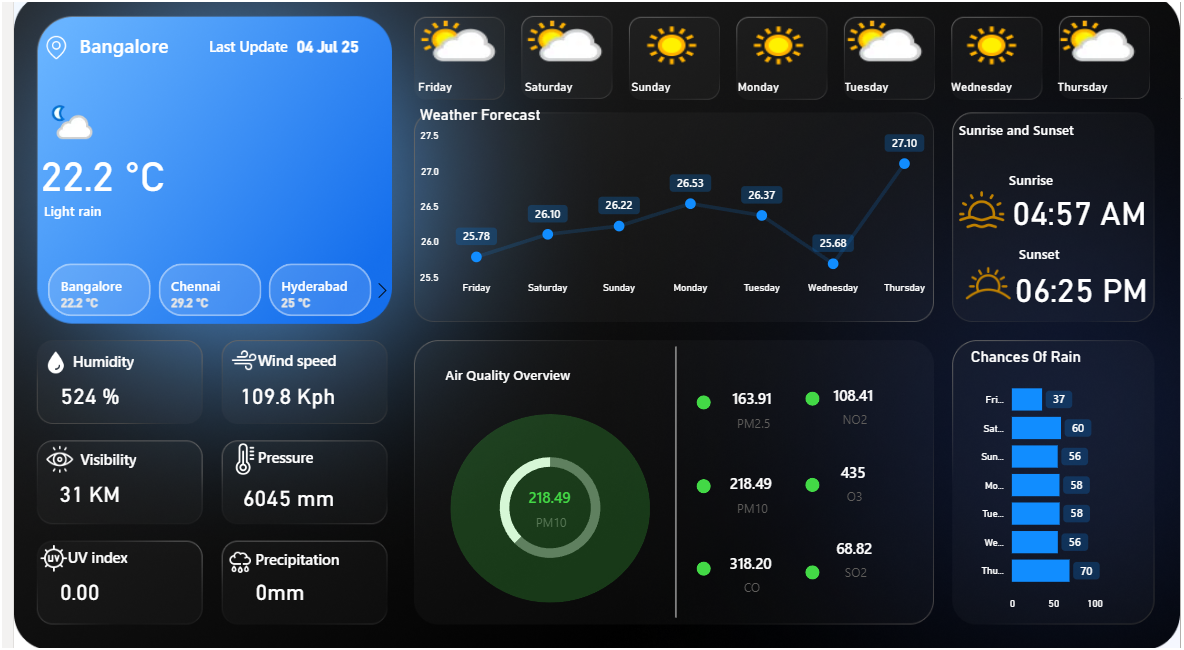

The dashboard page shown, as its layout file describes it:
{"tool":"powerbi","page":{"name":"Page 1","canvas":[1280,720],"ordinal":0},"visuals":[{"type":"advancedSlicerVisual","fields":{"Values":["current.location.name"]},"box":[12.3,290.9,407.5,68.6],"z":0},{"type":"shape","box":[18.2,169.5,158.9,60.5],"z":1000},{"type":"cardVisual","fields":{"Data":["Min(current.current.condition.icon)"]},"box":[0,101.4,116.5,87.8],"z":2000},{"type":"shape","box":[32.9,219.6,234.6,35.7],"z":3000},{"type":"shape","box":[64.5,41.2,112.5,30.2],"z":4000},{"type":"shape","box":[288.2,26.1,112.5,61.7],"z":5000},{"type":"shape","box":[72.7,495.4,100.2,28.8],"z":6000},{"type":"shape","box":[59,605.1,90.6,26.1],"z":7000},{"type":"shape","box":[264.8,606.5,101.5,26.1],"z":8000},{"type":"shape","box":[267.6,492.6,76.8,31.6],"z":9000},{"type":"shape","box":[267.6,387,112.5,30.2],"z":10000},{"type":"shape","box":[1037.4,130.4,138.6,37],"z":11000},{"type":"shape","box":[473.4,404.8,138.6,26.1],"z":12000},{"type":"shape","box":[64.5,388.3,78.2,30.2],"z":13000},{"type":"card","fields":{"Values":["_measure.windSpeed"]},"box":[233.1,417.7,134.7,46.9],"z":14000},{"type":"card","fields":{"Values":["_measure.pressure"]},"box":[245.2,529.7,112,46.9],"z":15000},{"type":"card","fields":{"Values":["_measure.prep"]},"box":[255.8,632.6,74.2,46.9],"z":16000},{"type":"card","fields":{"Values":["Sum(current.current.uv)"]},"box":[16.6,632.6,112,46.9],"z":17000},{"type":"card","fields":{"Values":["_measure.humudity"]},"box":[27.2,417.7,112,46.9],"z":18000},{"type":"card","fields":{"Values":["_measure.visivility"]},"box":[27.2,525.1,112,46.9],"z":19000},{"type":"lineChart","title":" Weather Forecast","fields":{"Y":["Avg(forcast_day.forecast.forecastday.day.avgtemp_c)"],"Category":["forcast_day.Day"]},"box":[440.5,122.1,573.6,215.4],"z":20000},{"type":"advancedSlicerVisual","fields":{"Values":["forcast_day.Day"]},"box":[433.6,12.3,817.8,118],"z":21000},{"type":"card","fields":{"Values":["Min(forcast_day.Sunrise)"]},"box":[1070.3,204.5,199,65.9],"z":22000},{"type":"card","fields":{"Values":["Min(forcast_day.sunset)"]},"box":[1092.3,284,159.2,75.5],"z":23000},{"type":"clusteredBarChart","title":" Chances Of Rain","fields":{"Category":["forcast_day.Day"],"Y":["Avg(forcast_day.forecast.forecastday.day.daily_chance_of_rain)"]},"box":[1045.2,388.1,193.3,296.3],"z":24000},{"type":"card","title":" Chances Of Rain","fields":{"Values":["Sum(current.current.air_quality.no2)"]},"box":[850.8,408.9,141.3,85.1],"z":25000},{"type":"card","title":" Chances Of Rain","fields":{"Values":["Sum(current.current.air_quality.o3)"]},"box":[850.6,493.4,140.8,84.5],"z":26000},{"type":"card","title":" Chances Of Rain","fields":{"Values":["Sum(current.current.air_quality.so2)"]},"box":[852.1,577.9,140.8,84.5],"z":27000},{"type":"card","title":" Chances Of Rain","fields":{"Values":["Sum(current.current.air_quality.pm2_5)"]},"box":[739.4,413.6,141.3,85.1],"z":28000},{"type":"card","title":" Chances Of Rain","fields":{"Values":["Sum(current.current.air_quality.pm10)"]},"box":[738,506.9,141.3,85.1],"z":29000},{"type":"card","title":" Chances Of Rain","fields":{"Values":["Min(current.current.air_quality.co)"]},"box":[738.3,594.5,140.8,84.5],"z":30000},{"type":"shape","box":[688.9,387,75.5,297.8],"z":31000},{"type":"shape","box":[749.1,440.1,15.8,15.8],"z":32000},{"type":"shape","box":[749.1,533.1,15.8,15.8],"z":33000},{"type":"shape","box":[749.1,623,15.8,15.8],"z":34000},{"type":"shape","box":[868.8,436.8,15.8,15.8],"z":35000},{"type":"shape","box":[868.8,531.4,15.8,15.8],"z":36000},{"type":"shape","box":[868.8,627.5,15.8,15.8],"z":37000},{"type":"card","title":" Chances Of Rain","fields":{"Values":["Sum(current.current.air_quality.pm10)"]},"box":[517.3,521.4,141.3,85.1],"z":38000},{"type":"donutChart","title":" Chances Of Rain","fields":{"Y":["Sum(current.current.air_quality.pm10)","_measure.leftpm10"]},"box":[473.4,489.9,230.5,148.2],"z":39000},{"type":"shape","box":[478.9,461.1,219.6,207.2],"z":40000},{"type":"image","box":[27.4,387,37,35.7],"z":41000},{"type":"image","box":[28.8,41.2,35.7,35.7],"z":42000},{"type":"image","box":[229.2,598.3,38.4,50.8],"z":43000},{"type":"image","box":[229.2,488.5,48,43.9],"z":44000},{"type":"image","box":[227.8,382.8,49.4,38.4],"z":45000},{"type":"image","box":[27.4,491.3,45.3,39.8],"z":46000},{"type":"image","box":[1031.9,279.9,75.5,75.5],"z":47000},{"type":"image","box":[1031.9,207.2,60.4,59],"z":48000},{"type":"image","box":[23.3,598.3,41.2,42.5],"z":49000},{"type":"shape","box":[1092.3,189.4,70,28.8],"z":50000},{"type":"shape","box":[1103.3,270.3,49.4,30.2],"z":51000},{"type":"shape","box":[214.1,45.3,101.5,23.3],"z":52000}]}

Visuals, with their boxes in screenshot pixels (x1, y1, x2, y2), scaled from the page's 1280x720 canvas onto the 1184x650 screenshot:
advancedSlicerVisual - current.location.name: locate(11, 263, 388, 325)
shape: locate(17, 153, 164, 208)
cardVisual - Min(current.current.condition.icon): locate(0, 92, 108, 171)
shape: locate(30, 198, 247, 230)
shape: locate(60, 37, 164, 64)
shape: locate(267, 24, 371, 79)
shape: locate(67, 447, 160, 473)
shape: locate(55, 546, 138, 570)
shape: locate(245, 548, 339, 571)
shape: locate(248, 445, 319, 473)
shape: locate(248, 349, 352, 377)
shape: locate(960, 118, 1088, 151)
shape: locate(438, 365, 566, 389)
shape: locate(60, 351, 132, 378)
card - _measure.windSpeed: locate(216, 377, 340, 419)
card - _measure.pressure: locate(227, 478, 330, 521)
card - _measure.prep: locate(237, 571, 305, 613)
card - Sum(current.current.uv): locate(15, 571, 119, 613)
card - _measure.humudity: locate(25, 377, 129, 419)
card - _measure.visivility: locate(25, 474, 129, 516)
" Weather Forecast" lineChart: locate(407, 110, 938, 305)
advancedSlicerVisual - forcast_day.Day: locate(401, 11, 1158, 118)
card - Min(forcast_day.Sunrise): locate(990, 185, 1174, 244)
card - Min(forcast_day.sunset): locate(1010, 256, 1158, 325)
" Chances Of Rain" clusteredBarChart: locate(967, 350, 1146, 618)
" Chances Of Rain" card: locate(787, 369, 918, 446)
" Chances Of Rain" card: locate(787, 445, 917, 522)
" Chances Of Rain" card: locate(788, 522, 918, 598)
" Chances Of Rain" card: locate(684, 373, 815, 450)
" Chances Of Rain" card: locate(683, 458, 813, 534)
" Chances Of Rain" card: locate(683, 537, 813, 613)
shape: locate(637, 349, 707, 618)
shape: locate(693, 397, 708, 412)
shape: locate(693, 481, 708, 496)
shape: locate(693, 562, 708, 577)
shape: locate(804, 394, 818, 409)
shape: locate(804, 480, 818, 494)
shape: locate(804, 566, 818, 581)
" Chances Of Rain" card: locate(479, 471, 609, 548)
" Chances Of Rain" donutChart: locate(438, 442, 651, 576)
shape: locate(443, 416, 646, 603)
image: locate(25, 349, 60, 382)
image: locate(27, 37, 60, 69)
image: locate(212, 540, 248, 586)
image: locate(212, 441, 256, 481)
image: locate(211, 346, 256, 380)
image: locate(25, 444, 67, 479)
image: locate(955, 253, 1024, 321)
image: locate(955, 187, 1010, 240)
image: locate(22, 540, 60, 578)
shape: locate(1010, 171, 1075, 197)
shape: locate(1021, 244, 1066, 271)
shape: locate(198, 41, 292, 62)
